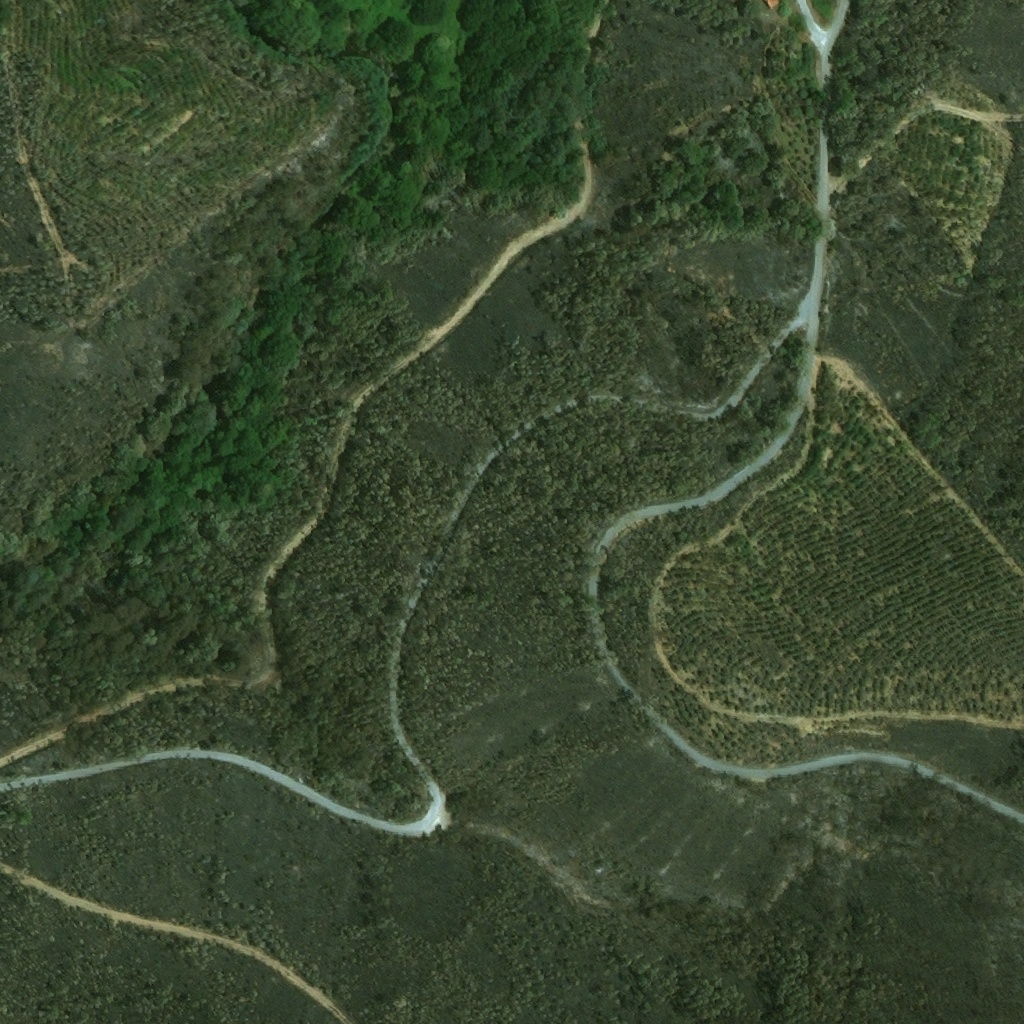4 un-classified: (763, 0, 780, 10), (911, 86, 923, 98)
